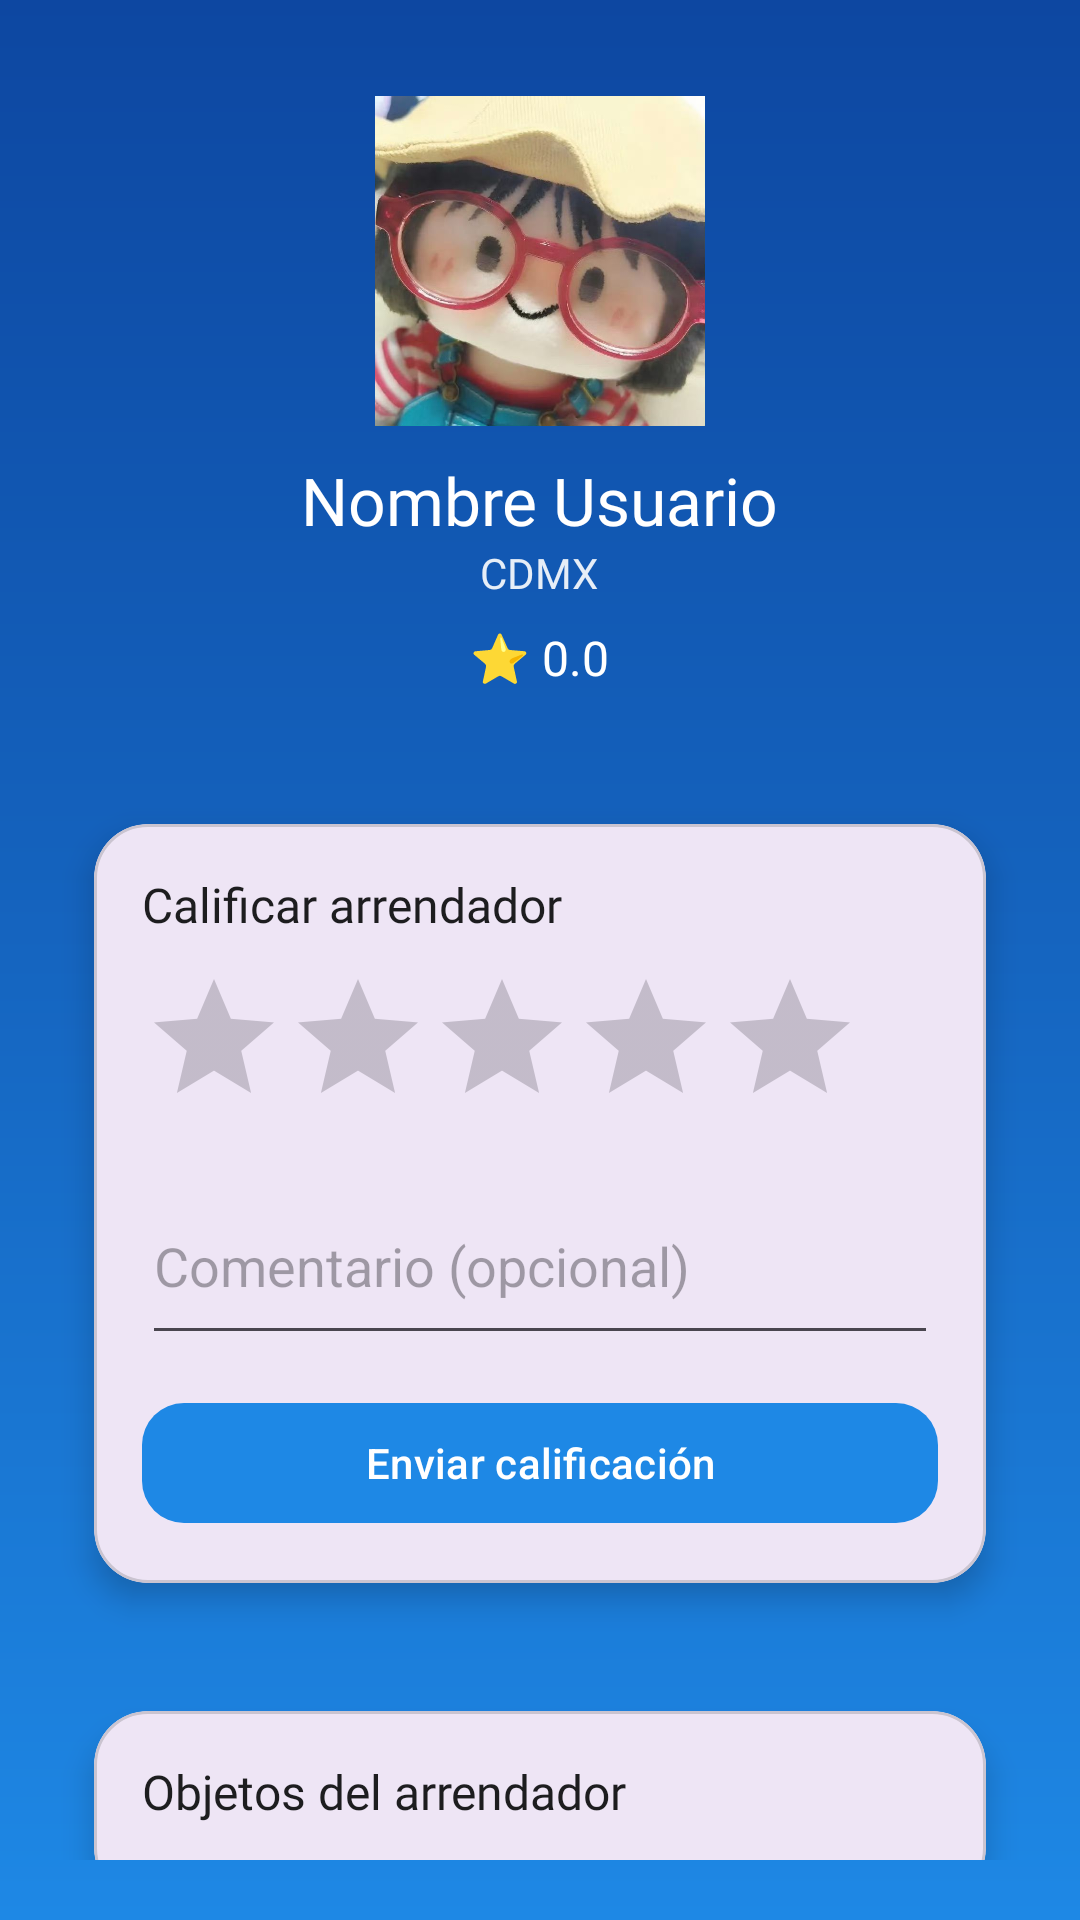

Point at icon controls on the screen. Image size 1080px x 1920px, points as point (x, y).
imgperfil: point (540, 261)
